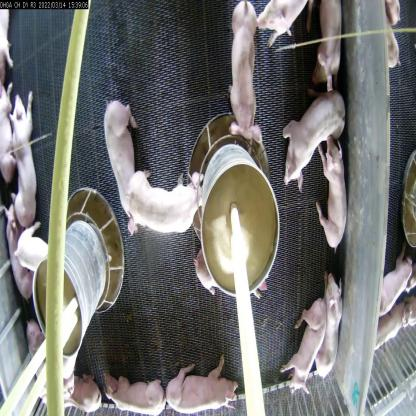Pig: (280, 90, 349, 186), (122, 164, 203, 242), (2, 93, 45, 235), (97, 92, 141, 229), (228, 0, 264, 147), (161, 356, 242, 416), (314, 134, 350, 255), (312, 268, 348, 383), (288, 297, 325, 397), (0, 193, 36, 294), (105, 362, 170, 415), (256, 0, 314, 44)
